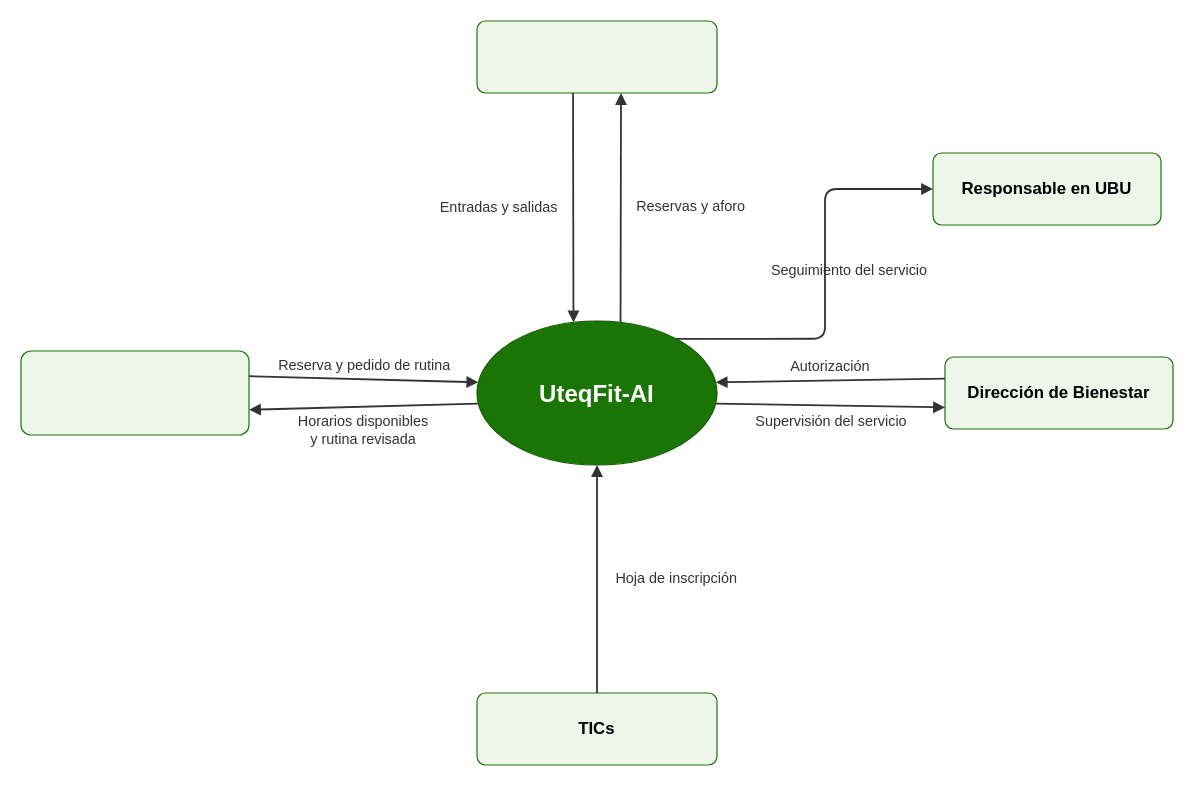
This 1194x786 diagram has some shape labels left out. The shapes that lost their labels are listed below. From the top down, each one's box as (x1, y1, x2, y2) in pixels, then its label:
(476, 20, 717, 93): Encargado del gimnasio
(20, 350, 249, 435): Usuarios estudiantes, docentes y personal
